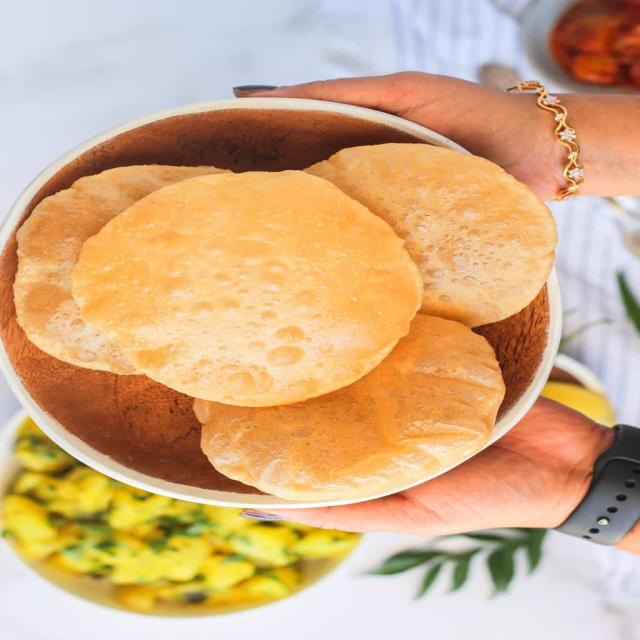poori: (63, 162, 434, 402), (182, 311, 530, 507), (332, 126, 564, 337)
